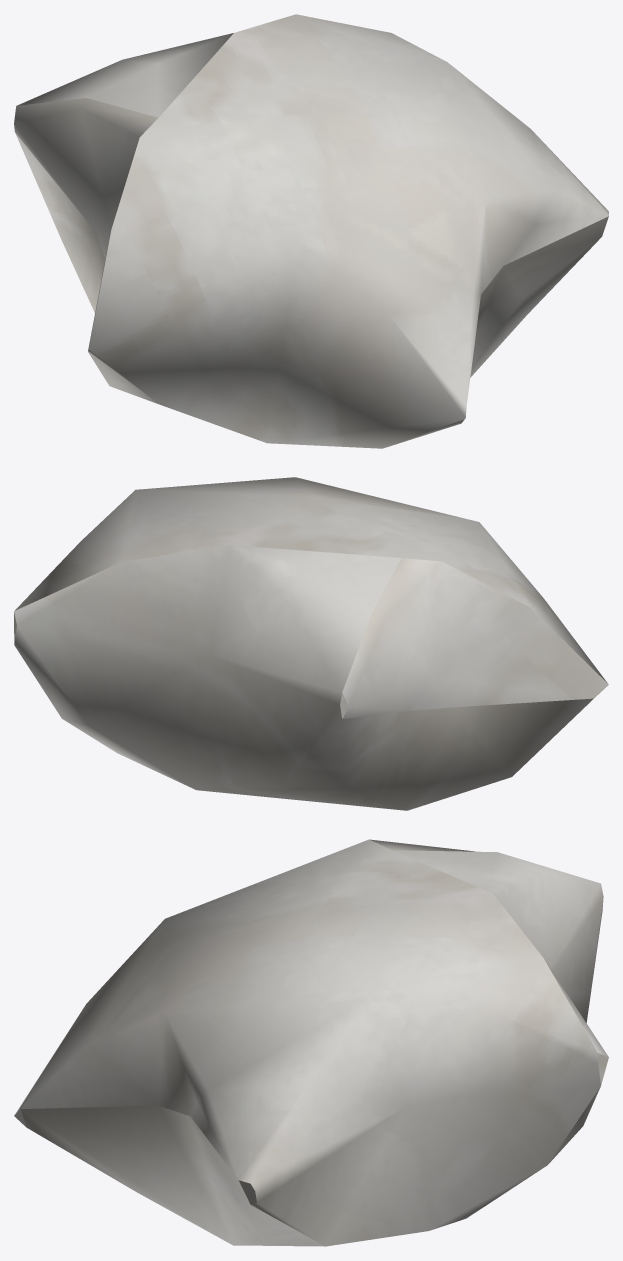
The model's file is ref_gtpaperstar.fbx.
3 views of the same model, one above another, from view 1: azimuth 30°, elevation 25°; view 2: azimuth 150°, elevation 25°; view 3: azimuth 270°, elevation 25° (orthographic). The views are drawn at different scales.
Visible parts, largest first — view 1: ref_gtpaperstar; view 2: ref_gtpaperstar; view 3: ref_gtpaperstar.
Boxes of the visible parts, box(x1,y1,x2,y2) form: ref_gtpaperstar: box(14, 14, 608, 448); ref_gtpaperstar: box(14, 477, 608, 810); ref_gtpaperstar: box(14, 839, 608, 1246).
Size of the model in its own units: 100 by 54.7 by 95.54.
